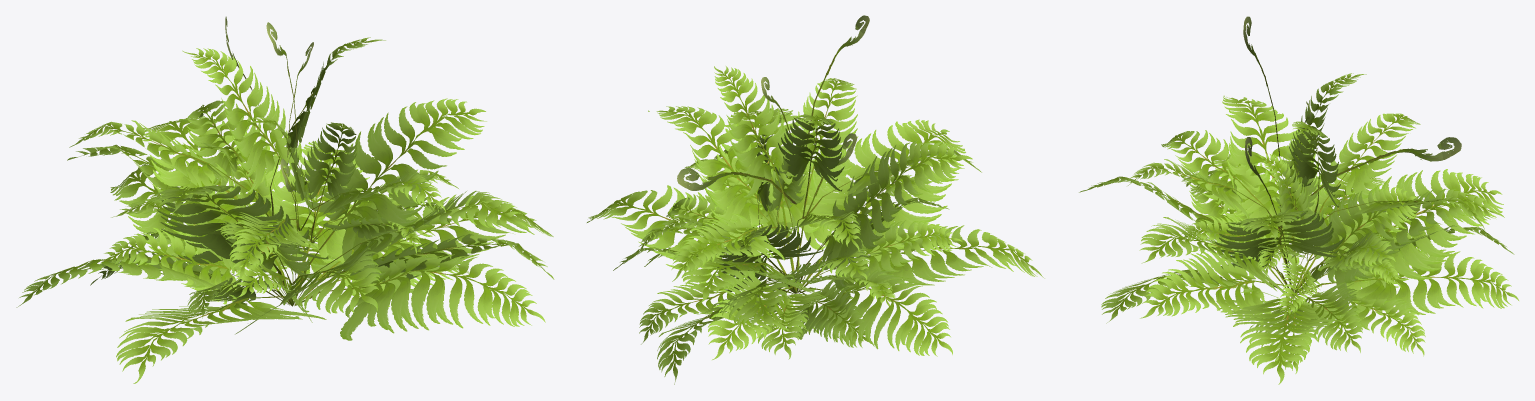
Rendered from Mod_Fern04.fbx.
3 views of the same model, side by side, from view 1: azimuth 30°, elevation 25°; view 2: azimuth 150°, elevation 25°; view 3: azimuth 270°, elevation 25° (orthographic). The views are drawn at different scales.
Visible parts, largest first — view 1: Fern01; view 2: Fern01; view 3: Fern01.
Part boxes in pixels (x1,y1,x2,y2): Fern01: (16,16,554,383); Fern01: (587,15,1044,384); Fern01: (1079,16,1518,384).
Size of the model in its own units: 207 by 140 by 201.
